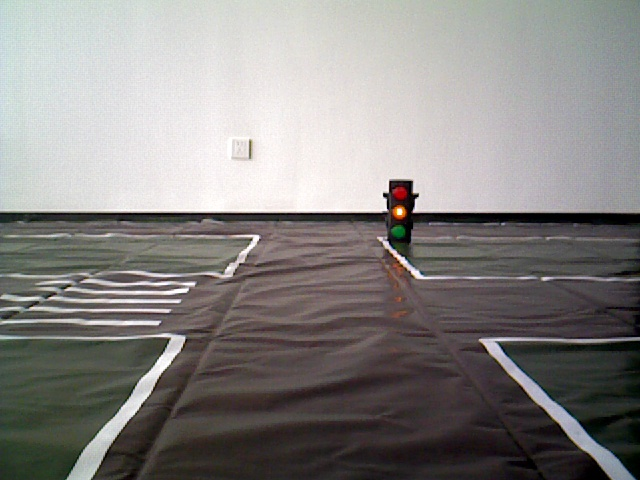yellow: (388, 178, 410, 243)
